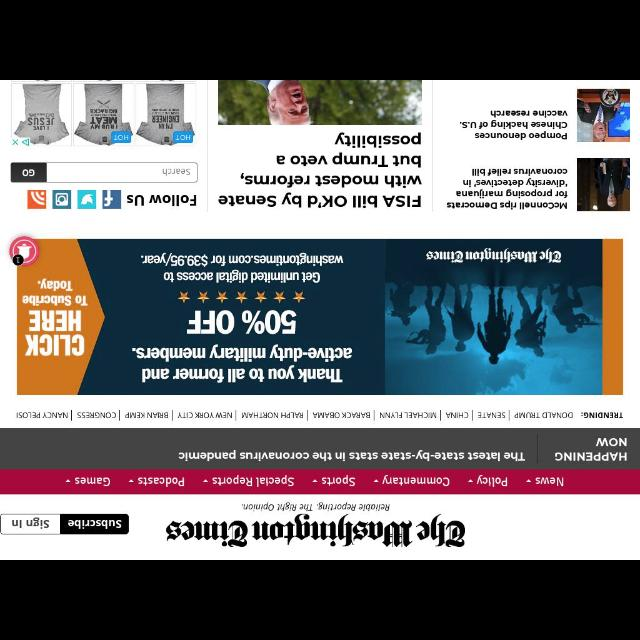icon: (202, 478, 208, 482), (468, 478, 472, 482), (374, 478, 378, 482), (66, 478, 70, 482), (526, 480, 532, 482), (312, 480, 318, 482), (128, 480, 134, 482)
iframe: (10, 80, 196, 146)
image: (16, 239, 624, 395), (164, 501, 468, 549), (218, 81, 422, 125), (576, 157, 630, 211), (578, 88, 630, 142), (8, 236, 40, 266), (102, 189, 121, 209), (76, 190, 95, 208), (53, 191, 71, 209), (28, 190, 46, 208)
input: (46, 162, 198, 182)
spinner: (202, 474, 294, 486), (374, 475, 450, 487), (128, 477, 184, 487), (312, 474, 354, 486), (467, 474, 507, 486), (66, 477, 110, 487), (526, 476, 564, 486)
text: (218, 130, 422, 210), (446, 168, 570, 210), (177, 449, 527, 463), (459, 110, 568, 140), (554, 436, 628, 462), (126, 192, 198, 208), (212, 474, 294, 486), (382, 475, 450, 487), (68, 518, 122, 530), (515, 411, 573, 419), (138, 477, 184, 487), (12, 517, 50, 529), (178, 411, 232, 419), (16, 411, 68, 419), (321, 474, 355, 486), (579, 412, 623, 421), (241, 412, 303, 418), (477, 474, 507, 486), (74, 477, 110, 487), (379, 412, 437, 418), (313, 412, 371, 418), (536, 477, 564, 487), (124, 412, 168, 418), (77, 412, 117, 418), (161, 168, 191, 176), (478, 412, 506, 418), (445, 412, 469, 418), (22, 169, 36, 177)
textbutton: (60, 514, 128, 534), (0, 514, 60, 534), (10, 162, 46, 182)
toolbar: (1, 470, 640, 494)
